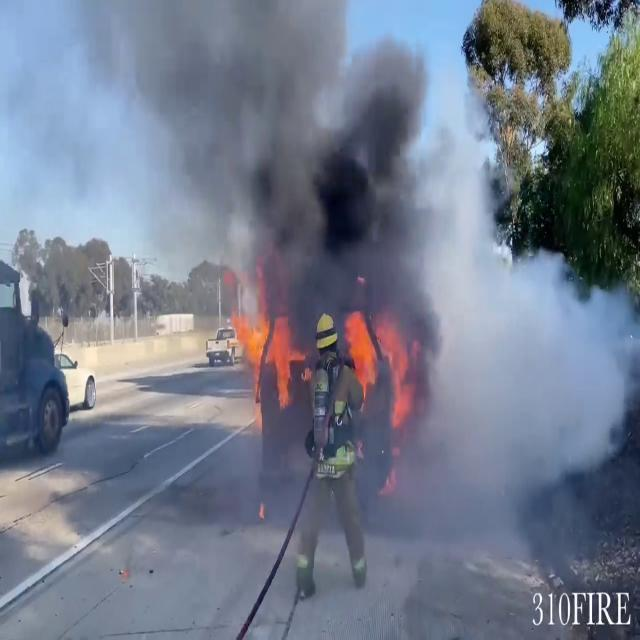Fire: (344, 306, 411, 408), (238, 308, 294, 408)
Smoke: (90, 0, 442, 312)
